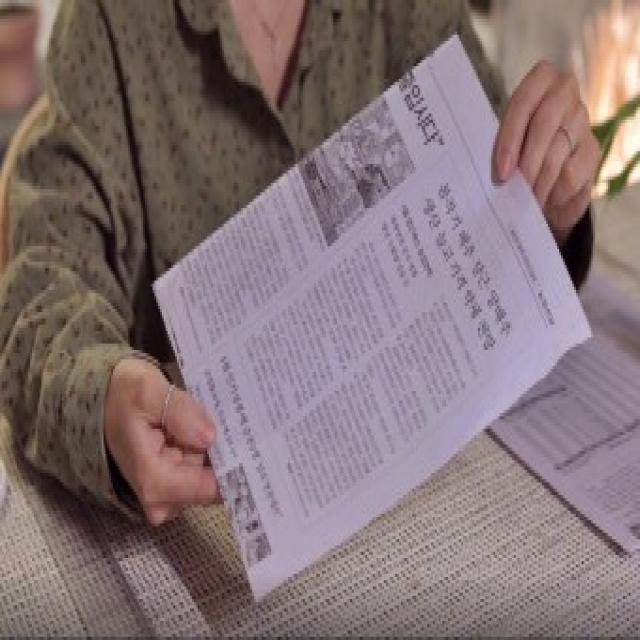Newspaper: (155, 33, 594, 608)
